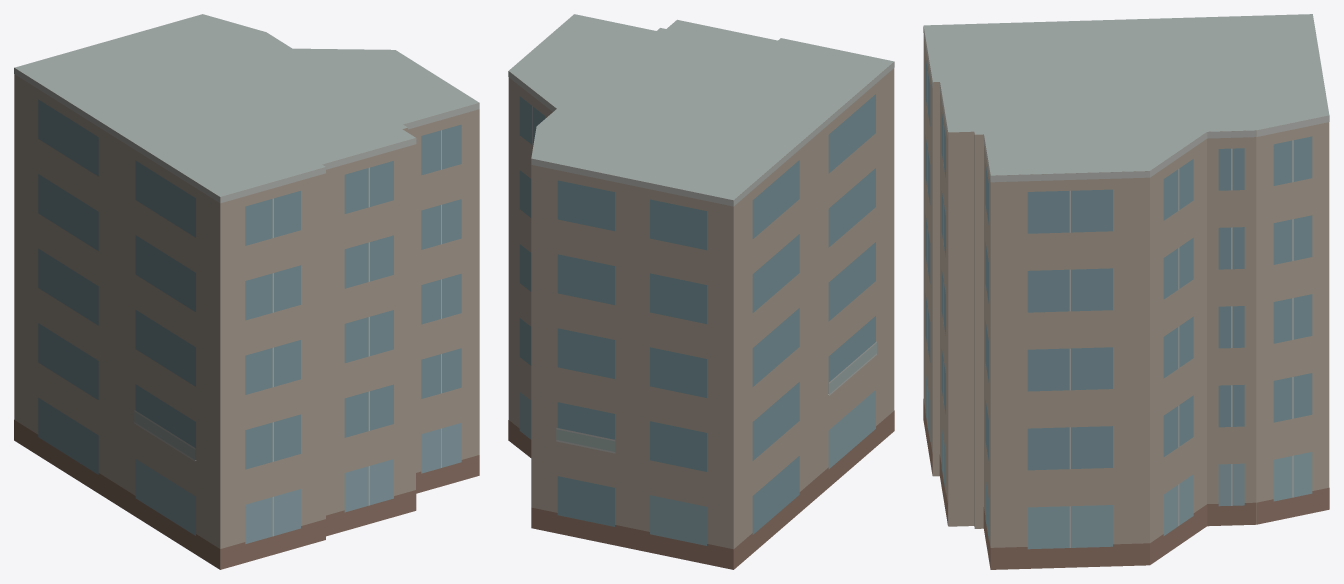
Rendered from survey-upis-33020795.glb.
3 views of the same model, side by side, from view 1: azimuth 30°, elevation 25°; view 2: azimuth 150°, elevation 25°; view 3: azimuth 270°, elevation 25° (orthographic). The views are drawn at different scales.
Parts seen in each view (by area): view 1: survey-upis-33020795.tmp; view 2: survey-upis-33020795.tmp; view 3: survey-upis-33020795.tmp.
Boxes of the visible parts, x1,y1,x2,y2 form: survey-upis-33020795.tmp: (14,14,479,569); survey-upis-33020795.tmp: (508,14,894,569); survey-upis-33020795.tmp: (923,14,1329,569).
Bounding box in the file's own units: 12.67 × 14.4 × 13.45.
